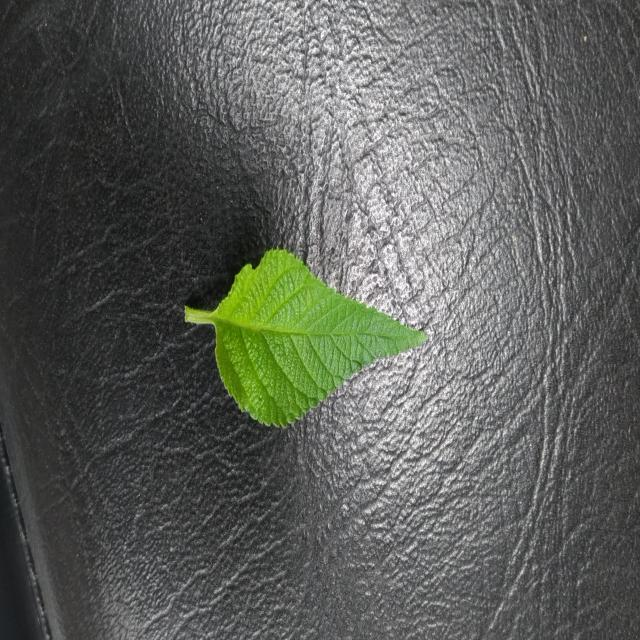Lantana: (185, 249, 426, 427)
